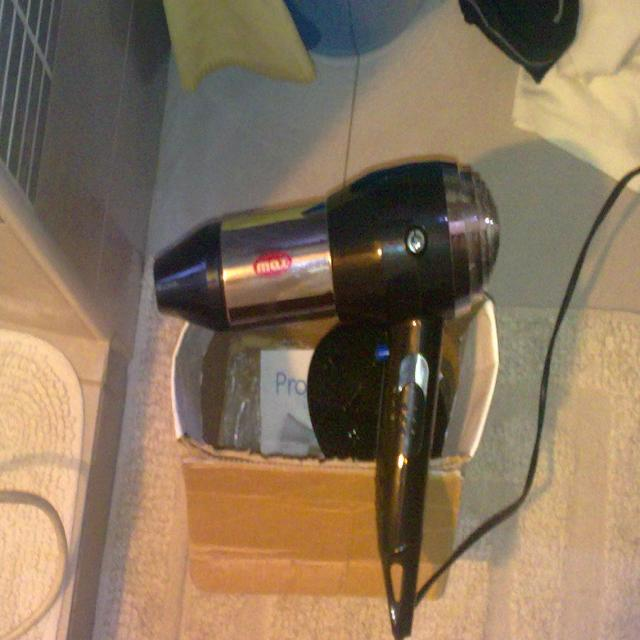dryer: (149, 154, 503, 640)
